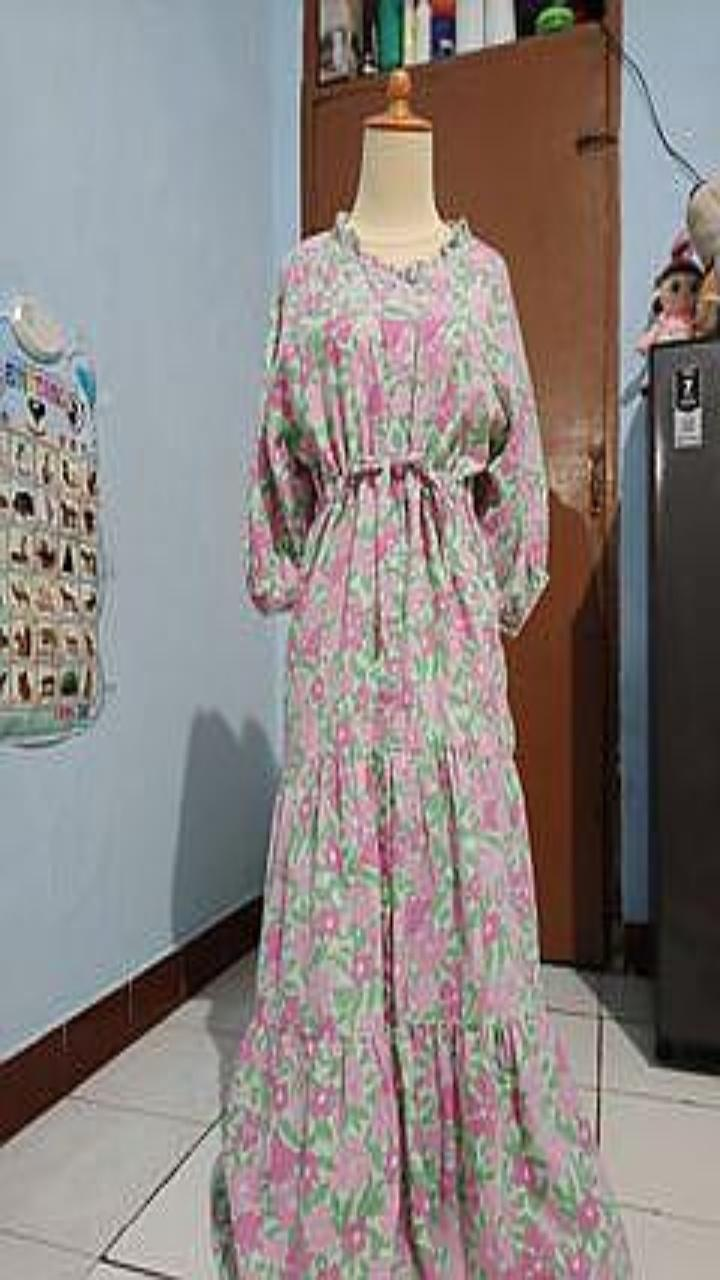Dresses: (211, 211, 630, 1279)
